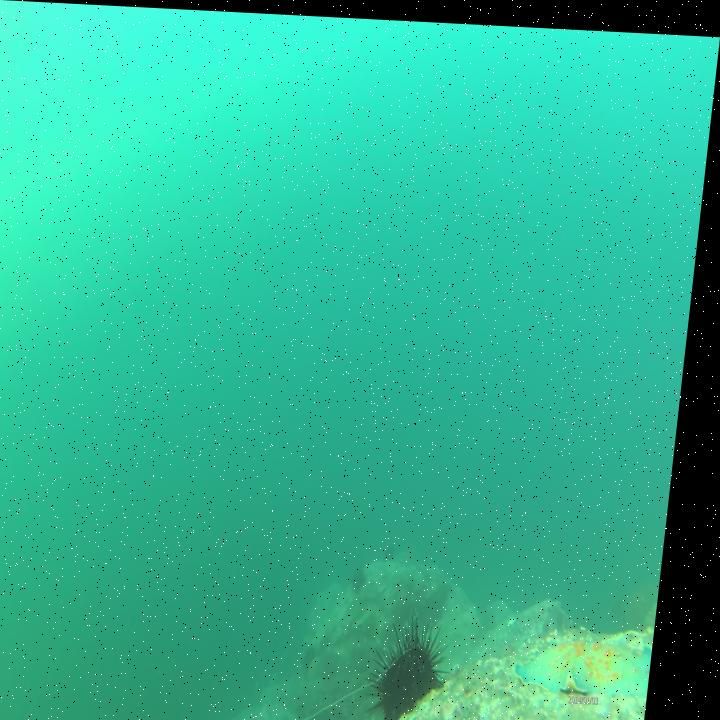echinus: (373, 609, 464, 719), (313, 637, 334, 668), (364, 562, 382, 589)
starfish: (529, 611, 668, 702), (354, 707, 415, 720)
